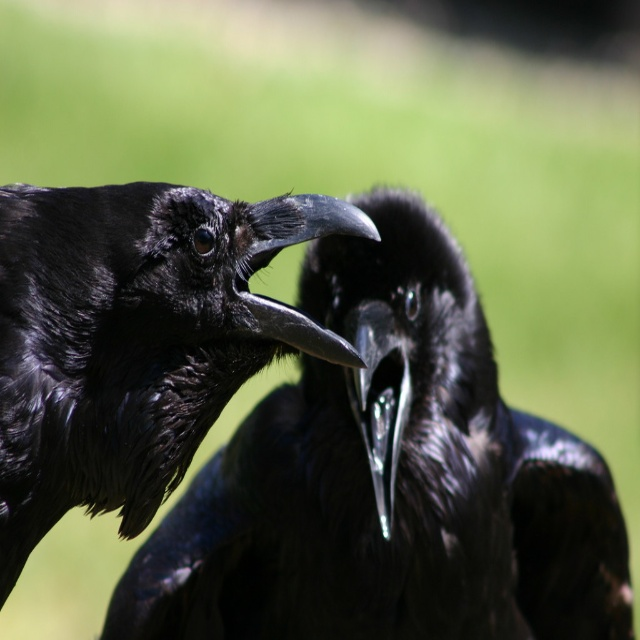Raven: (100, 182, 634, 639), (0, 181, 381, 612)
